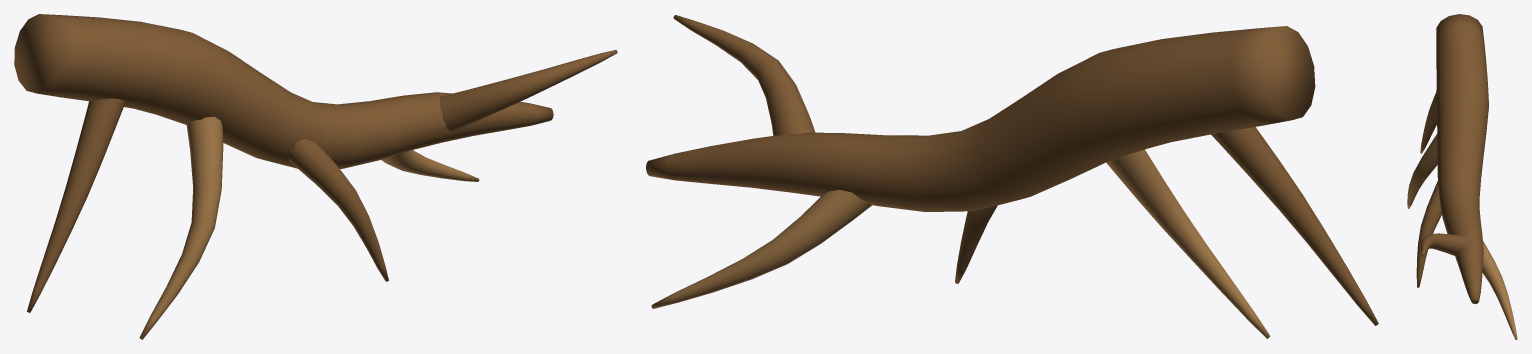
Rendered from submerged_root_module.glb.
3 views of the same model, side by side, from view 1: azimuth 30°, elevation 25°; view 2: azimuth 150°, elevation 25°; view 3: azimuth 270°, elevation 25° (orthographic). The views are drawn at different scales.
Parts seen in each view (by area): view 1: NaturalRootsGeometry; view 2: NaturalRootsGeometry; view 3: NaturalRootsGeometry.
Part boxes in pixels (x1=…): NaturalRootsGeometry: x1=14, y1=14, x2=617, y2=339; NaturalRootsGeometry: x1=646, y1=15, x2=1378, y2=338; NaturalRootsGeometry: x1=1407, y1=14, x2=1517, y2=339.
Bounding box in the file's own units: 2.56 × 1.31 × 0.6947.
